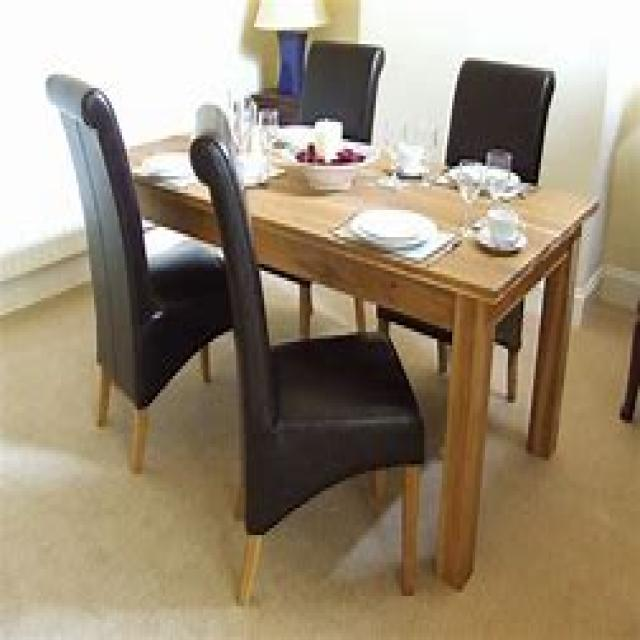chair: (188, 119, 424, 606), (373, 54, 554, 400)
table: (122, 119, 599, 589)
